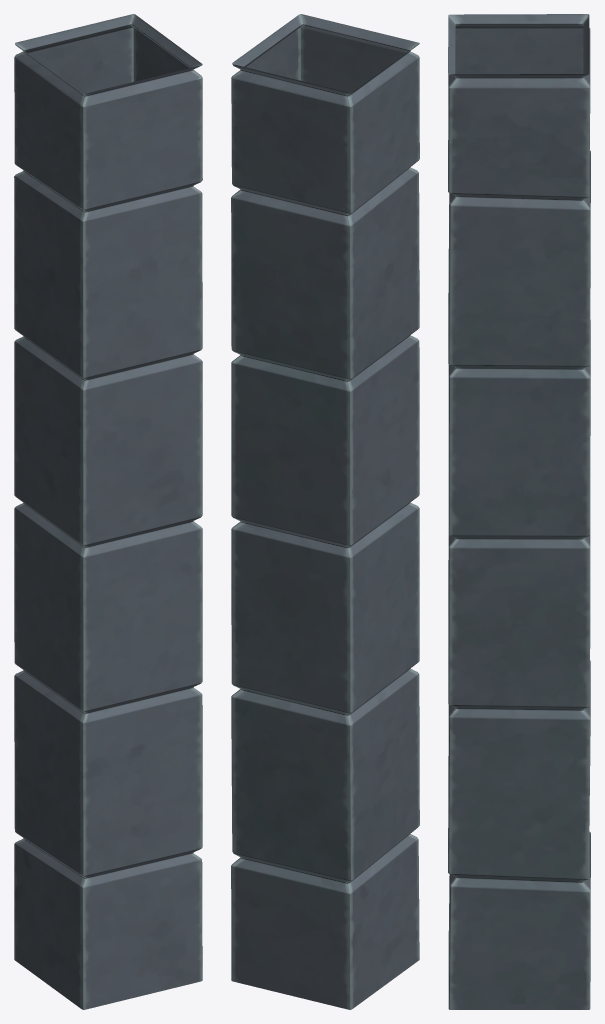
File: Pillar_Wide.fbx
3 views of the same model, side by side, from view 1: azimuth 30°, elevation 25°; view 2: azimuth 150°, elevation 25°; view 3: azimuth 270°, elevation 25° (orthographic). The views are drawn at different scales.
Visible parts, largest first — view 1: Pillar_Wide; view 2: Pillar_Wide; view 3: Pillar_Wide.
Part boxes in pixels (x1,y1,x2,y2): Pillar_Wide: (14,14,202,1009); Pillar_Wide: (231,14,419,1009); Pillar_Wide: (448,14,590,1009).
Bounding box in the file's own units: 68.88 × 500 × 69.2.
1 material, 1 textured.
